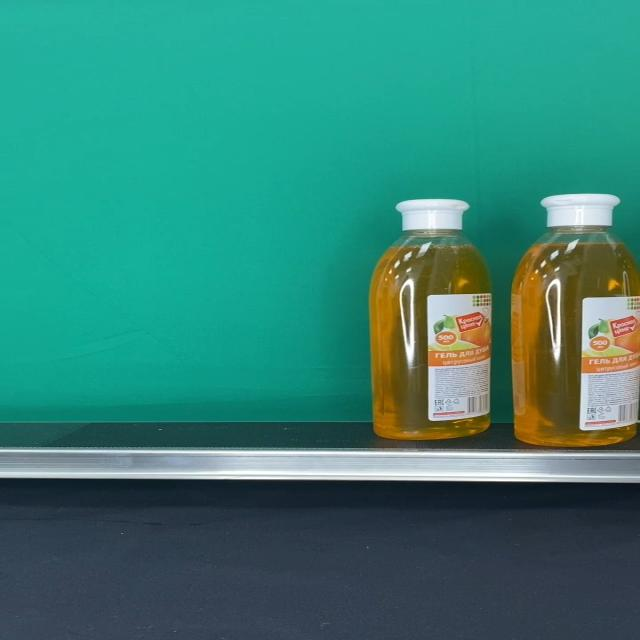Bottle: (513, 194, 640, 446), (371, 198, 492, 440)
Cap: (540, 194, 622, 227), (395, 199, 469, 229)
